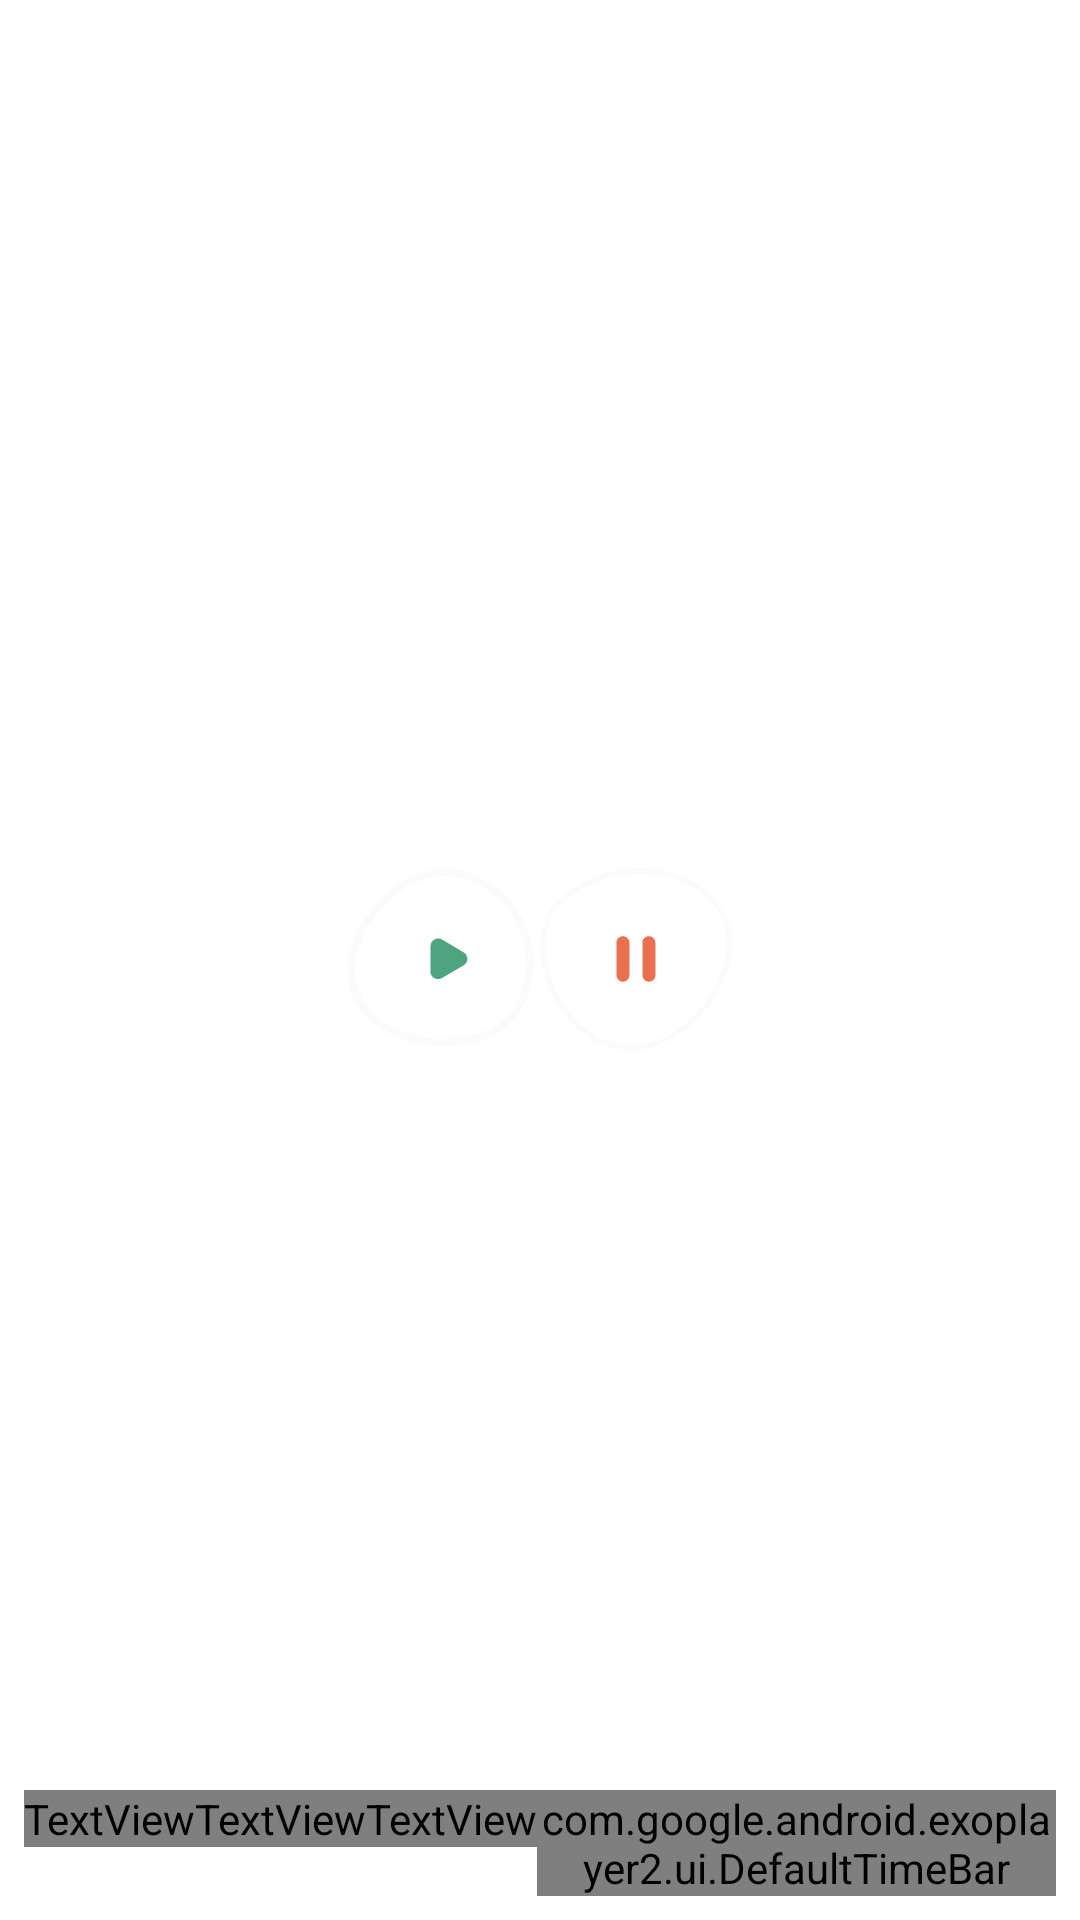

Icons on this 1080w x 1920h Android screen, each with its box as (x1, y1, x2, y2):
pause: (616, 936, 656, 982)
play: (430, 938, 468, 979)
